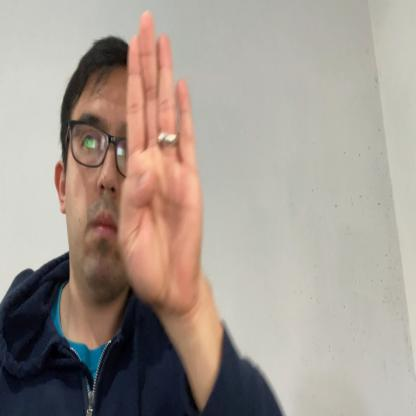B: (119, 11, 202, 309)
